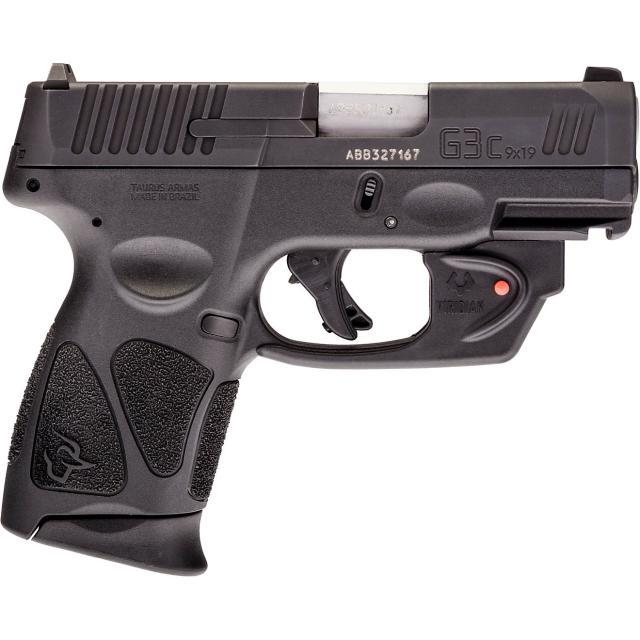Pistol: (3, 28, 640, 611)
